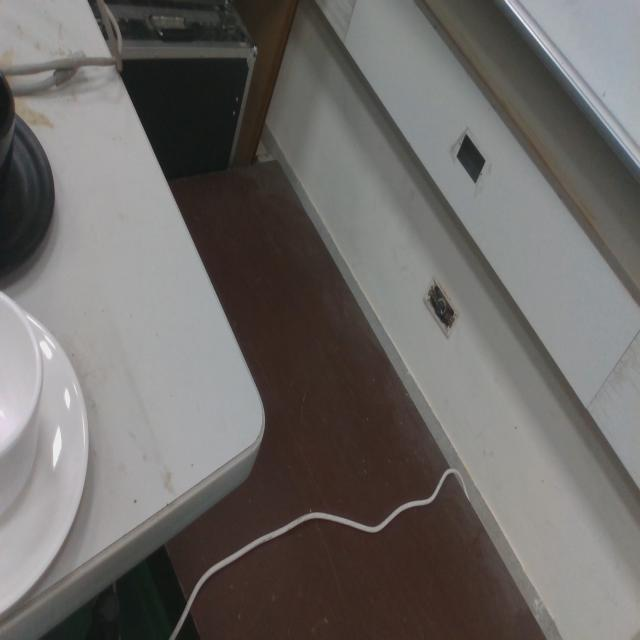black: (0, 66, 58, 282)
white: (0, 283, 93, 620)
